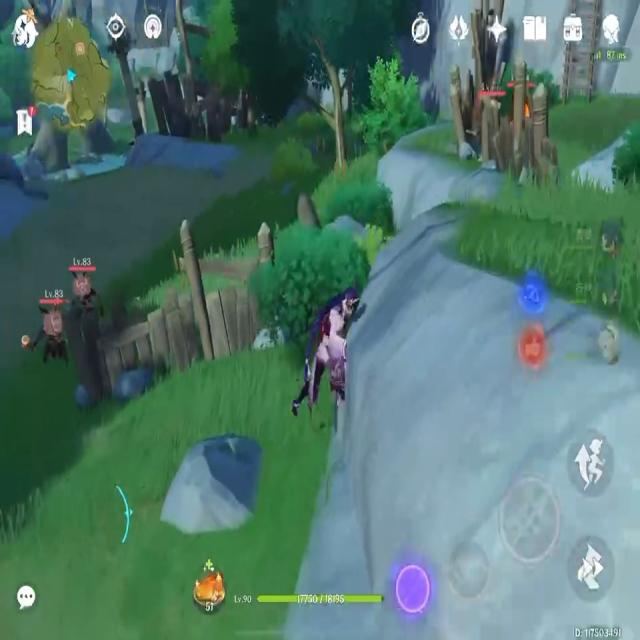genshin-hilichurls: (24, 300, 68, 362), (66, 269, 102, 309)
